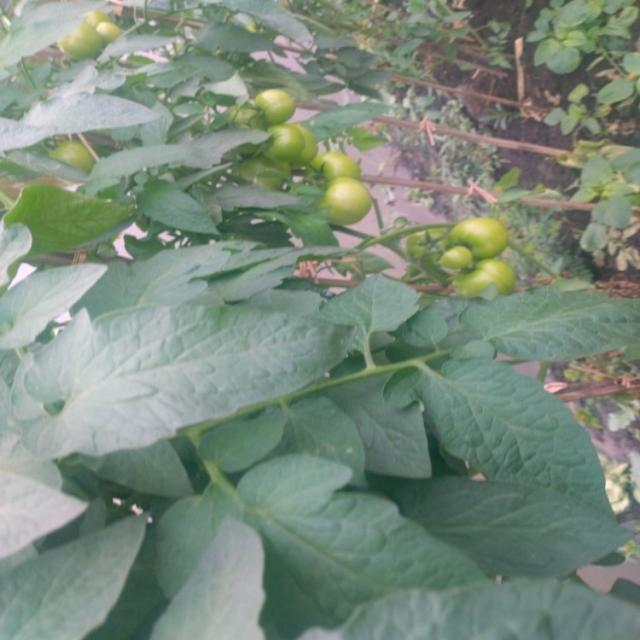tomato: (450, 241, 518, 309), (310, 167, 378, 228), (438, 214, 519, 262), (245, 121, 314, 172), (49, 24, 113, 70), (242, 92, 303, 129), (308, 149, 360, 189), (431, 237, 479, 279), (44, 143, 104, 174), (400, 220, 445, 259), (86, 9, 124, 48)
